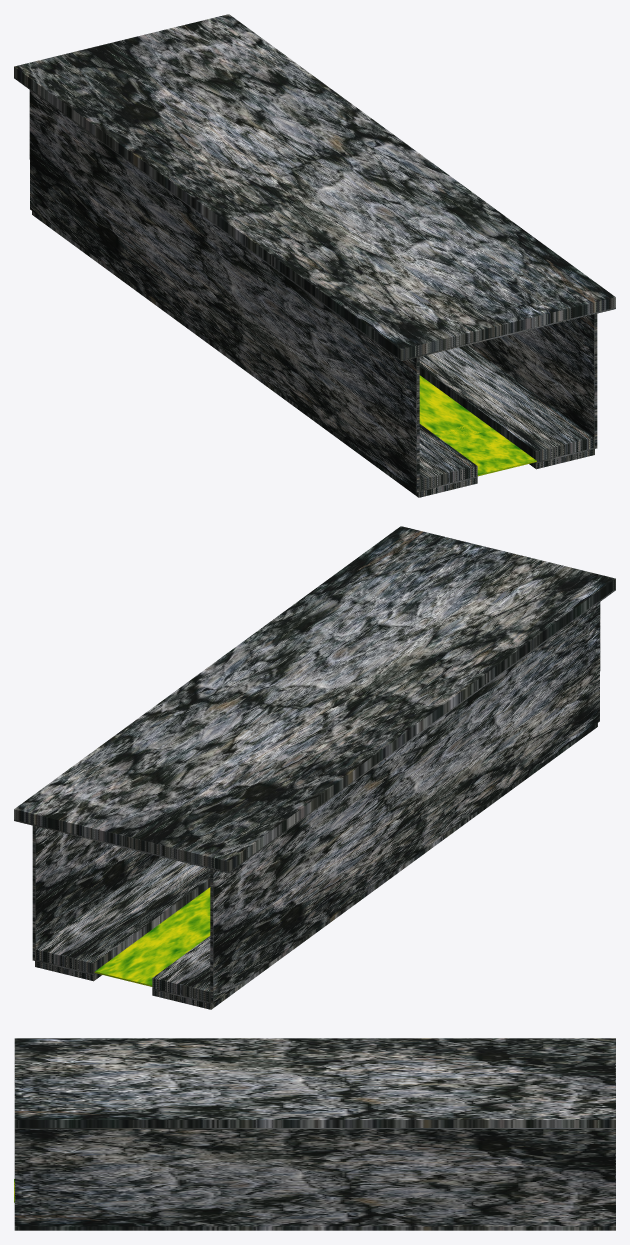
The model's file is level straight path 1.fbx.
The picture shows the model from 3 angles, top to bottom: view 1: azimuth 30°, elevation 25°; view 2: azimuth 150°, elevation 25°; view 3: azimuth 270°, elevation 25°; orthographic projection. The views are drawn at different scales.
Parts seen in each view (by area): view 1: ceiling, wall 1, floor 2, wall 2, acid, floor 1; view 2: ceiling, wall 1, floor 2, wall 2, acid, floor 1; view 3: wall 2, ceiling, floor 2.
Part boxes in pixels (x1,y1,x2,y2): ceiling: (14,14,615,361); wall 1: (29,90,419,492); floor 2: (419,345,594,469); wall 2: (468,313,597,448); acid: (419,375,536,476); floor 1: (32,211,477,497); ceiling: (14,526,615,873); wall 1: (210,602,600,1004); floor 2: (35,857,210,981); wall 2: (32,825,161,960); acid: (94,887,210,986); floor 1: (152,723,597,1009); wall 2: (14,1129,615,1226); ceiling: (14,1038,615,1128); floor 2: (14,1226,615,1230).
Bounding box in the file's own units: 4555 × 3087 × 14211.
2 materials, 2 textured.
